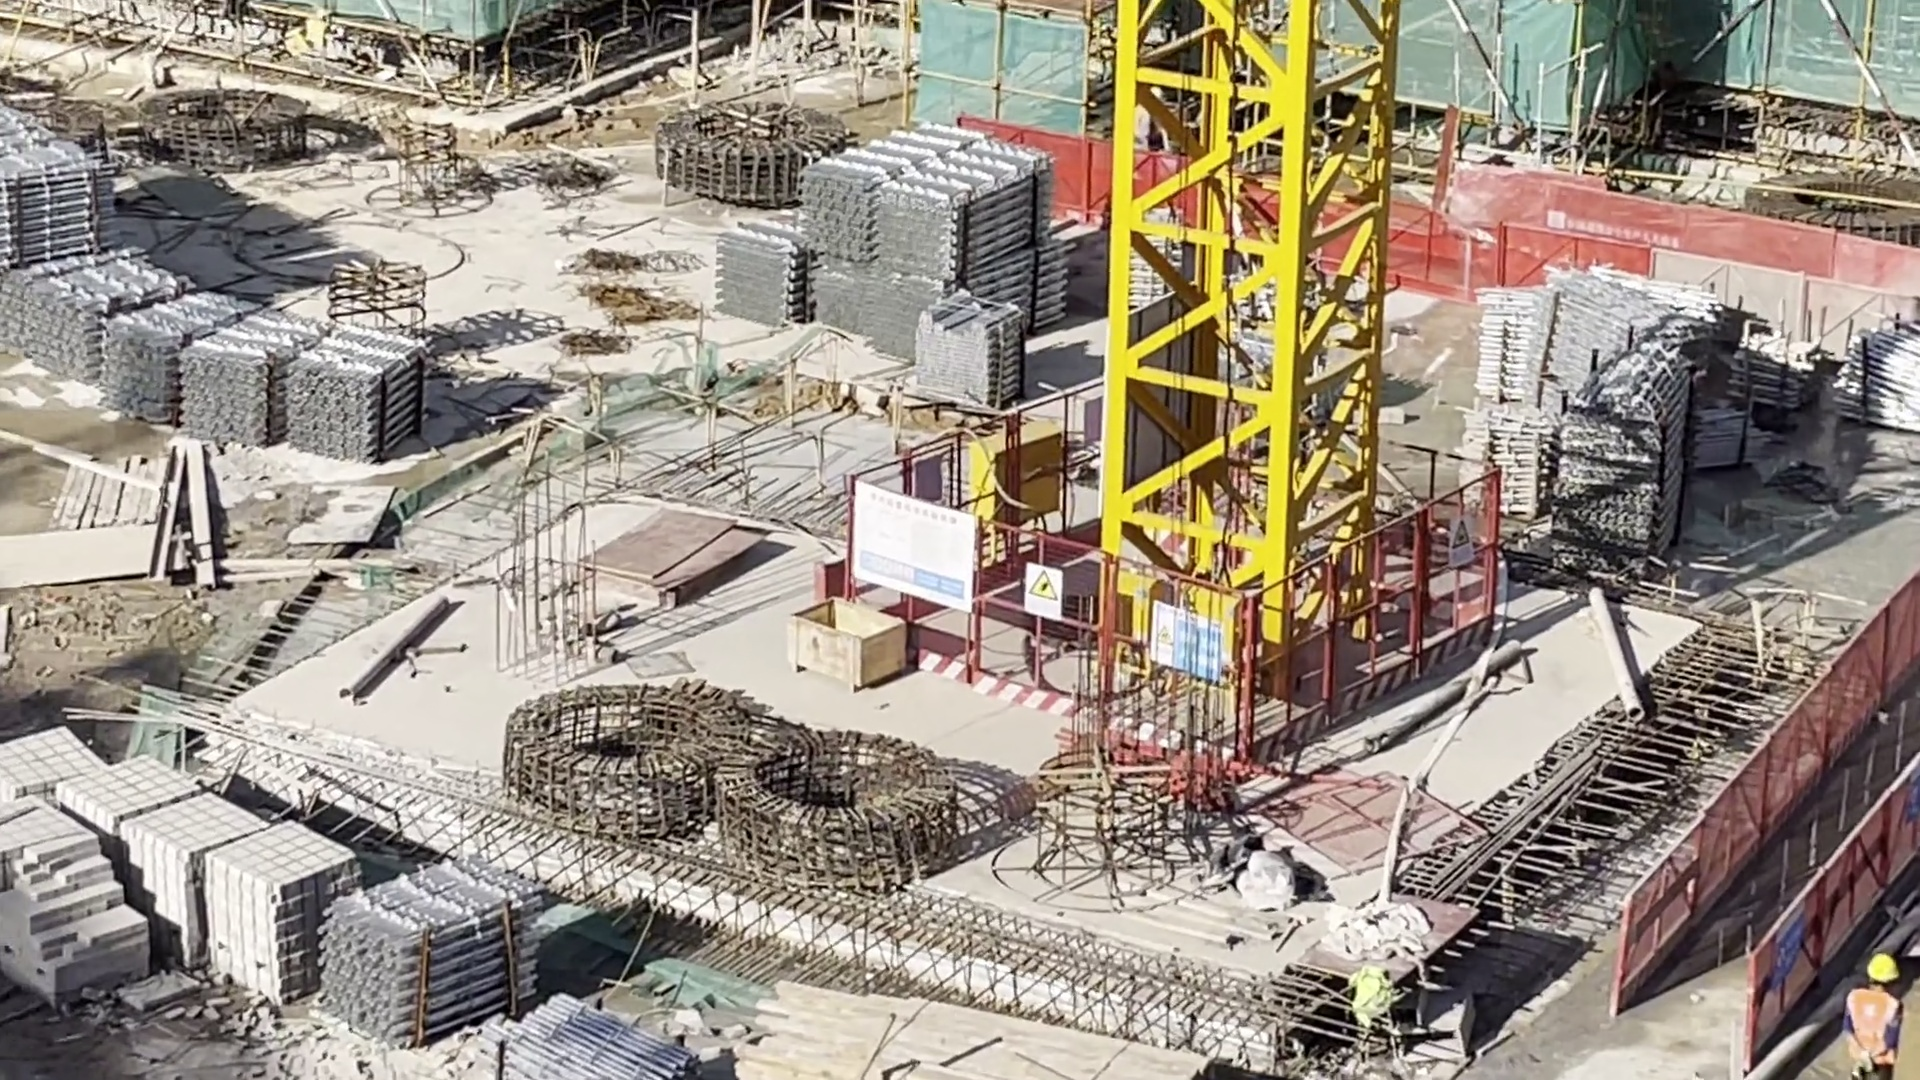board: (600, 515, 763, 603)
brick: (5, 738, 336, 995)
ebox: (970, 431, 1061, 518)
fence: (1629, 570, 1920, 1027), (1393, 177, 1920, 331)
helmet: (1869, 953, 1896, 983)
person: (1847, 949, 1898, 1080)
scaffold: (813, 124, 1067, 339), (327, 869, 538, 1033), (1529, 264, 1709, 408), (1566, 354, 1675, 558), (11, 256, 179, 383), (105, 295, 246, 424), (1, 119, 131, 257), (186, 314, 323, 439), (293, 337, 425, 461), (485, 1007, 697, 1080), (915, 295, 1020, 406), (1462, 408, 1542, 520), (714, 225, 798, 317), (1842, 330, 1920, 426), (1721, 330, 1819, 403), (1470, 288, 1529, 400)
slogan: (1150, 606, 1220, 687), (1777, 911, 1809, 989), (1024, 561, 1063, 624), (1447, 522, 1475, 565)
vest: (1848, 992, 1900, 1061)
wood: (742, 1001, 1169, 1080)
